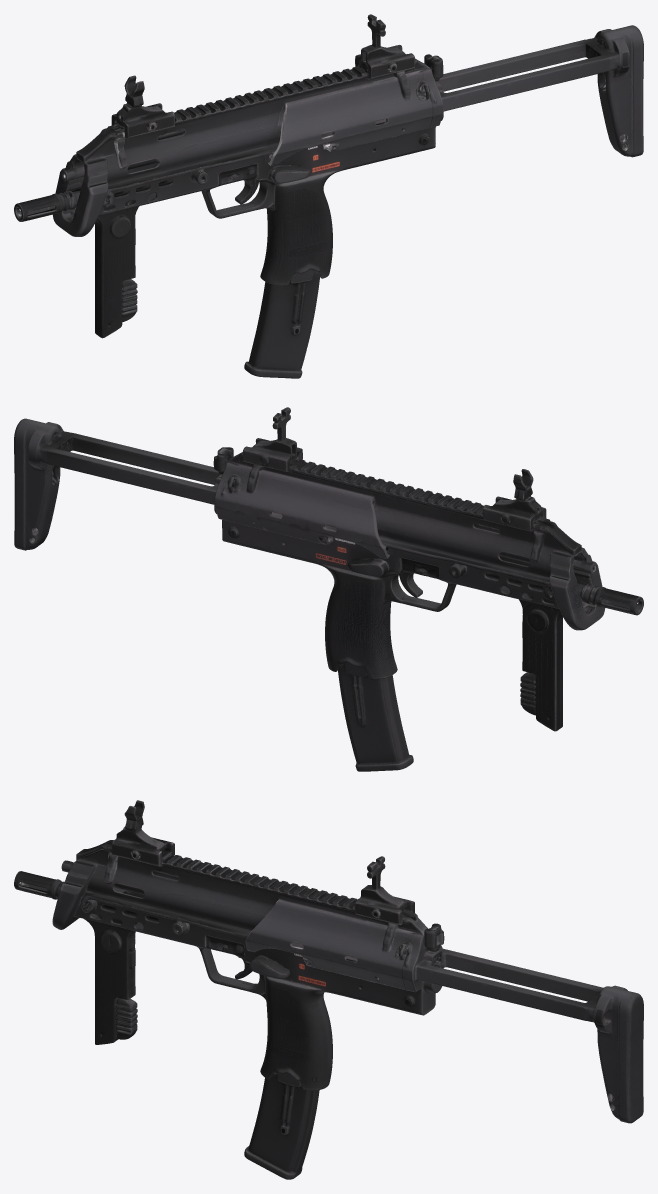
The model's file is Meshy_AI_mp7_1012115753_texture.glb.
The picture shows the model from 3 angles, top to bottom: view 1: azimuth 30°, elevation 25°; view 2: azimuth 150°, elevation 25°; view 3: azimuth 330°, elevation 25°; orthographic projection.
Visible parts, largest first — view 1: mesh_node; view 2: mesh_node; view 3: mesh_node.
Part boxes in pixels (x1,y1,x2,y2): mesh_node: [14, 14, 643, 378]; mesh_node: [14, 407, 643, 771]; mesh_node: [14, 800, 643, 1179].
Size of the model in its own units: 1.9 by 0.9832 by 0.1707.
Materials: 1 (1 with a texture image).
